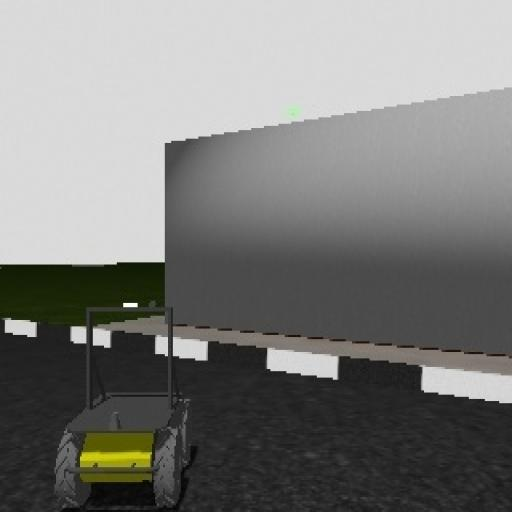huskya200: (46, 293, 198, 511)
